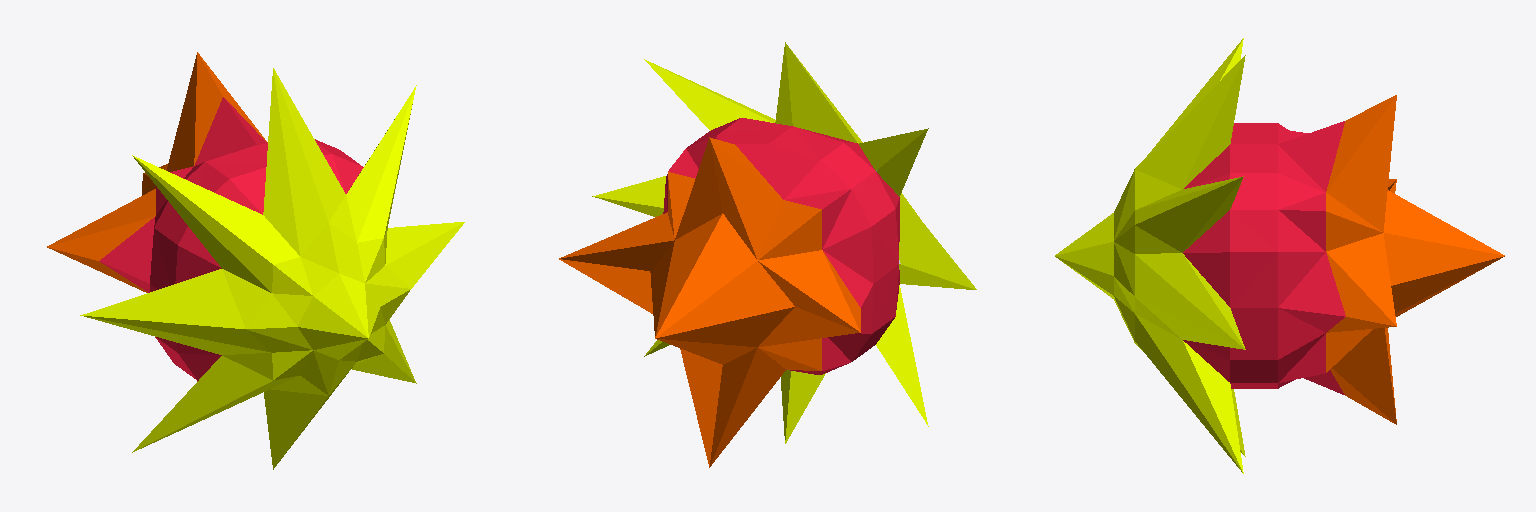
3 renders of one model, left to right at view 1: azimuth 30°, elevation 25°; view 2: azimuth 150°, elevation 25°; view 3: azimuth 270°, elevation 25°, orthographic.
Visible parts, largest first — view 1: Cube; view 2: Cube; view 3: Cube.
Boxes of the visible parts, x1=… form: Cube: x1=47, y1=52, x2=464, y2=469; Cube: x1=559, y1=42, x2=976, y2=467; Cube: x1=1055, y1=38, x2=1504, y2=473.
Bounding box in the file's own units: 1.61 × 1.61 × 1.63.
Materials: 1 (1 with a texture image).